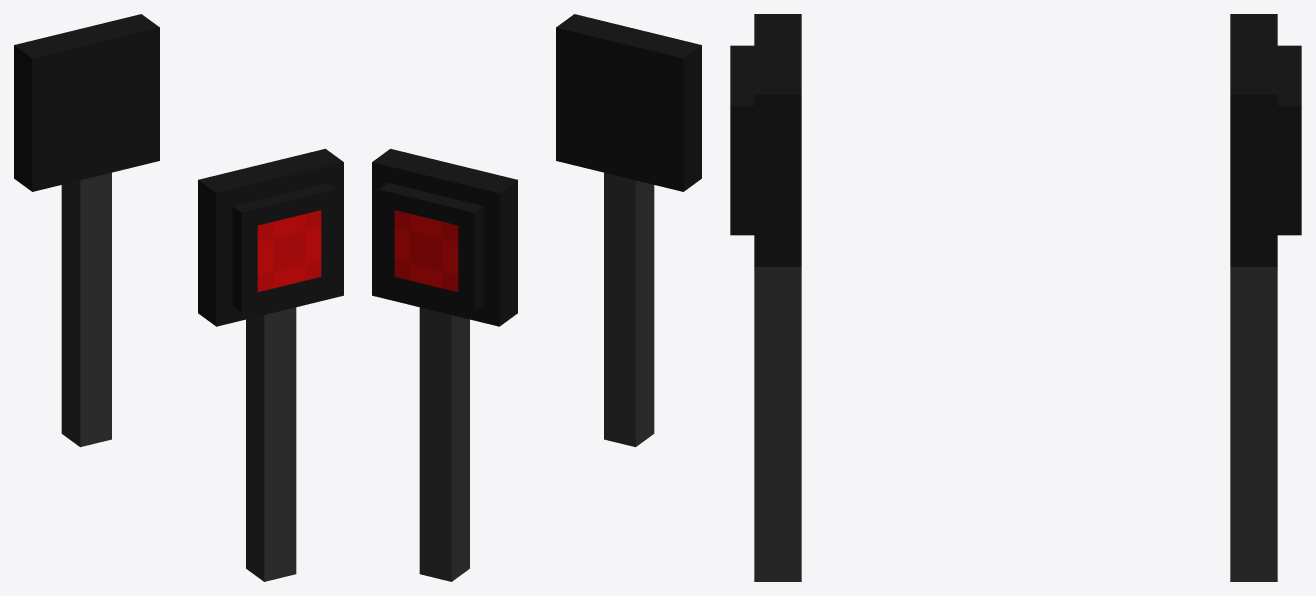
File: Ampel red.obj
The picture shows the model from 3 angles, left to right: view 1: azimuth 30°, elevation 25°; view 2: azimuth 150°, elevation 25°; view 3: azimuth 270°, elevation 25°; orthographic projection. The views are drawn at different scales.
Size of the model in its own units: 0.8 by 2.4 by 2.4.
Materials: 1 (1 with a texture image).
